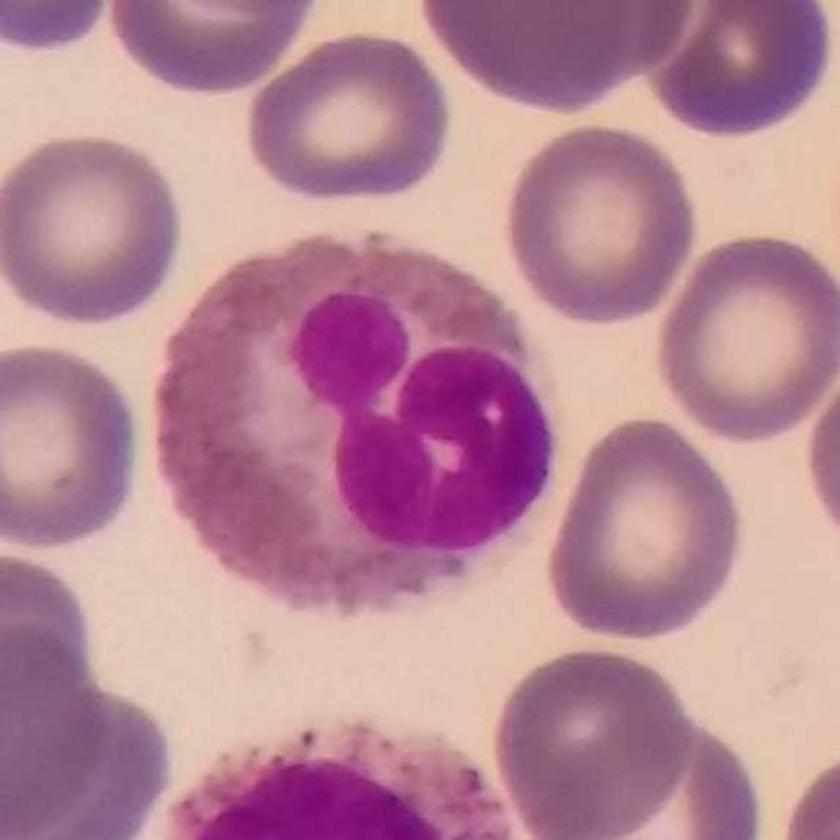eosinophil: (156, 228, 552, 605)
